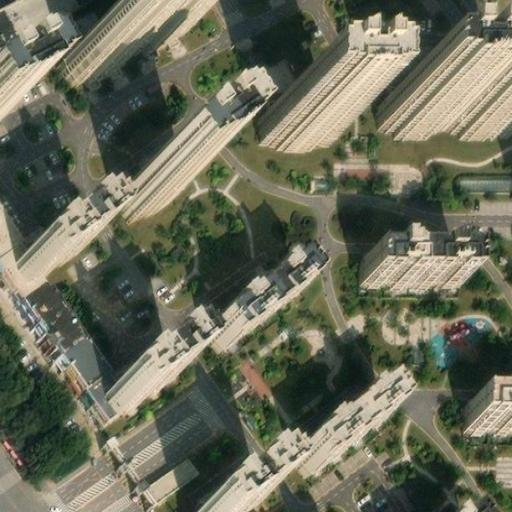building: (14, 286, 118, 431), (60, 0, 190, 78), (294, 395, 389, 475), (202, 272, 290, 350), (0, 0, 143, 44), (117, 150, 189, 217), (372, 98, 503, 134), (105, 367, 174, 427), (1, 248, 68, 303), (357, 256, 456, 286), (192, 473, 259, 512), (147, 452, 200, 496), (259, 108, 320, 144), (464, 403, 512, 429), (456, 173, 512, 193)
